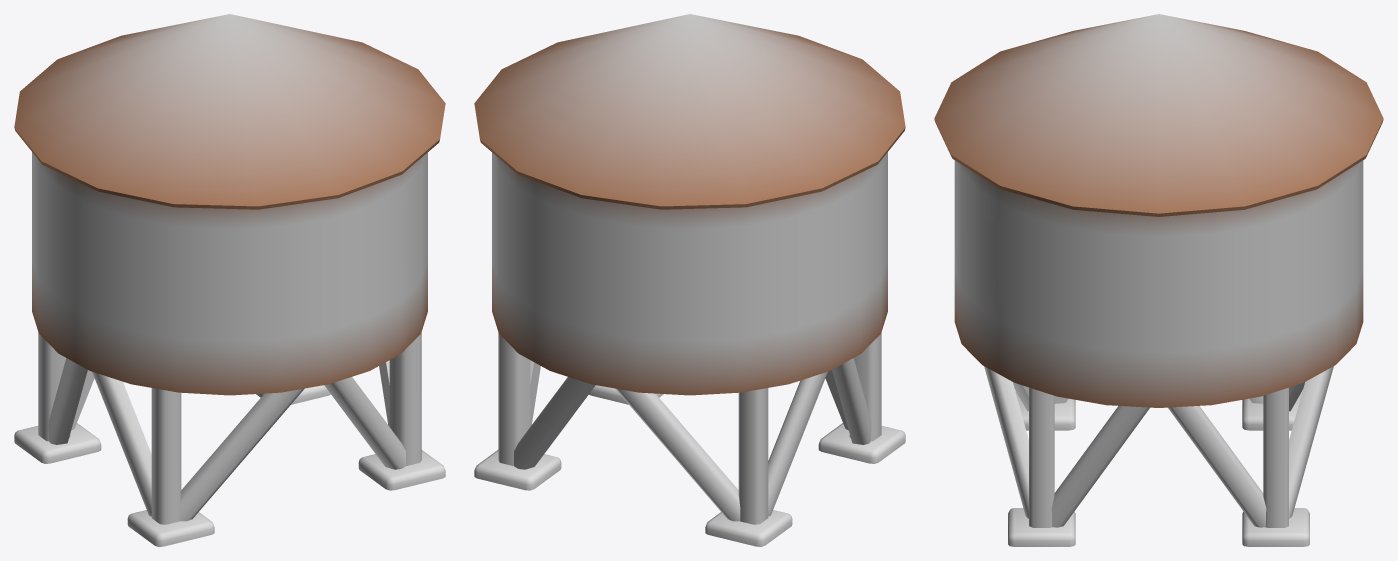
File: NF_Prop_Fire Tank.fbx
The picture shows the model from 3 angles, left to right: view 1: azimuth 30°, elevation 25°; view 2: azimuth 150°, elevation 25°; view 3: azimuth 270°, elevation 25°; orthographic projection. The views are drawn at different scales.
Parts seen in each view (by area): view 1: Fire Tank 01; view 2: Fire Tank 01; view 3: Fire Tank 01.
Part boxes in pixels (box(x1,y1,x2,y2)): Fire Tank 01: box(14, 14, 445, 546); Fire Tank 01: box(474, 14, 905, 546); Fire Tank 01: box(934, 14, 1383, 546).
Size of the model in its own units: 3.5 by 3.95 by 3.5.
